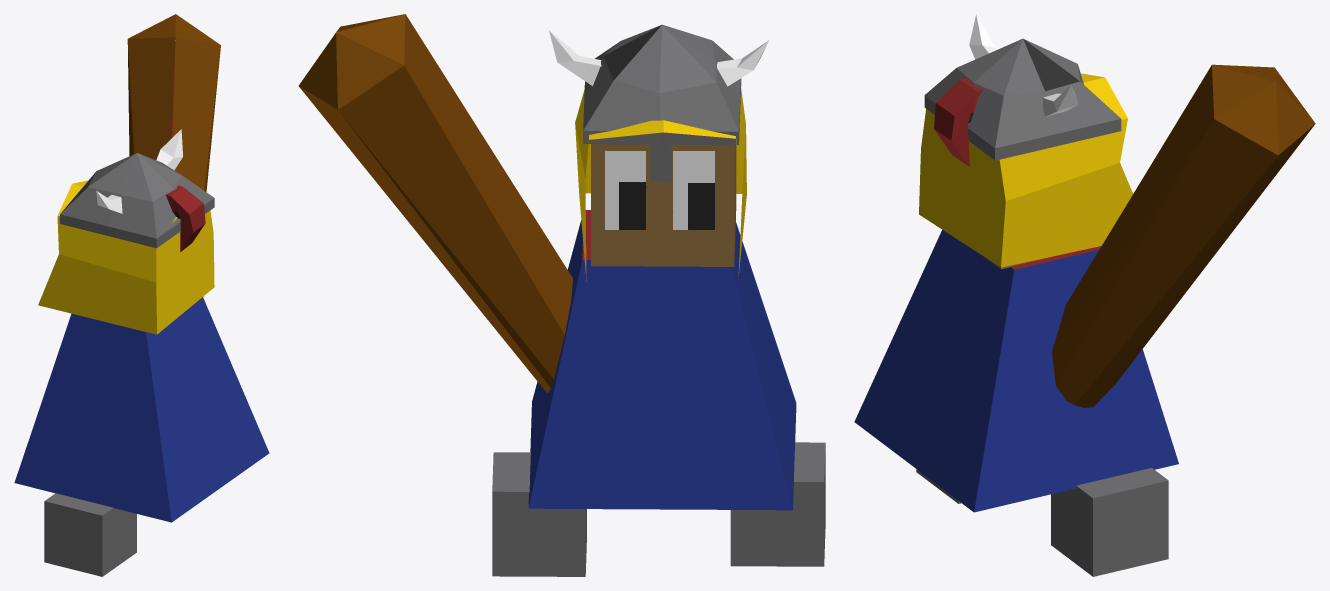
The model's file is WARRIOR.glb.
3 renders of one model, left to right at view 1: azimuth 30°, elevation 25°; view 2: azimuth 150°, elevation 25°; view 3: azimuth 270°, elevation 25°, orthographic. The views are drawn at different scales.
Parts seen in each view (by area): view 1: IMPERIUS_WARRIOR, BARDUR_WARRIOR; view 2: IMPERIUS_WARRIOR, BARDUR_WARRIOR; view 3: IMPERIUS_WARRIOR, BARDUR_WARRIOR.
Boxes of the visible parts, x1,y1,x2,y2 form: IMPERIUS_WARRIOR: [14, 14, 269, 576]; BARDUR_WARRIOR: [60, 129, 214, 248]; IMPERIUS_WARRIOR: [298, 14, 825, 576]; BARDUR_WARRIOR: [549, 24, 769, 181]; IMPERIUS_WARRIOR: [854, 64, 1315, 576]; BARDUR_WARRIOR: [924, 14, 1121, 160].
Size of the model in its own units: 2.64 by 3.8 by 3.02.
Materials: 2 (2 with a texture image).
